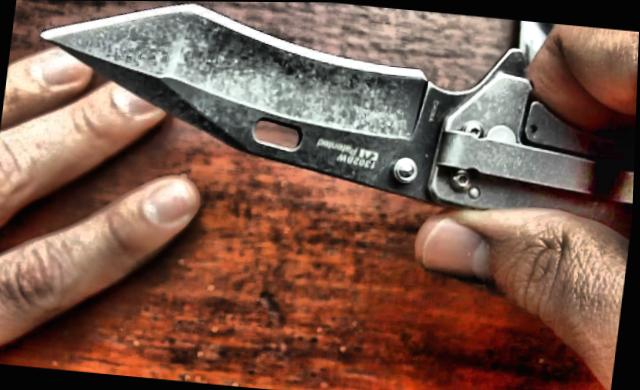knife: (6, 0, 640, 249)
